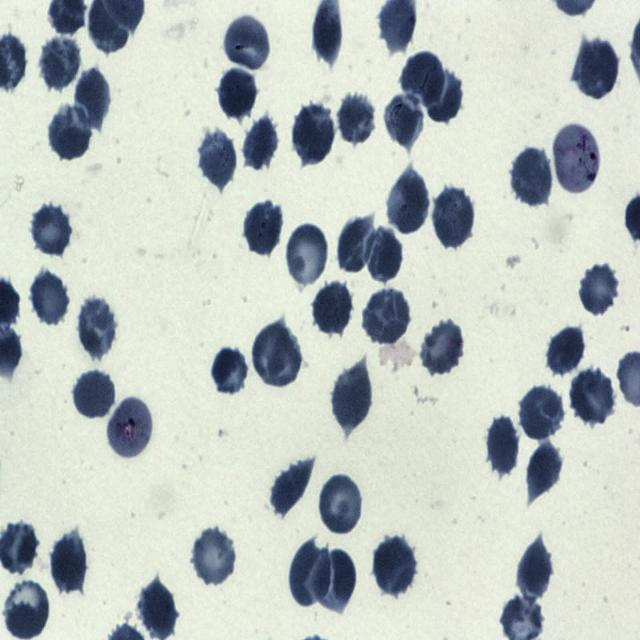red blood cell: (252, 323, 303, 389), (331, 360, 375, 433), (220, 13, 272, 72), (318, 472, 365, 536), (386, 168, 430, 236), (190, 525, 238, 586), (284, 221, 328, 287), (288, 542, 331, 608), (5, 577, 50, 640), (314, 549, 358, 612), (363, 290, 412, 346), (76, 295, 118, 360), (136, 578, 180, 640), (432, 185, 475, 248), (420, 66, 468, 121), (419, 318, 464, 376), (570, 368, 616, 424), (292, 104, 336, 162), (46, 112, 97, 162), (518, 386, 564, 441), (372, 537, 417, 593), (30, 200, 73, 258), (511, 147, 553, 206), (577, 39, 619, 98), (517, 534, 552, 603), (51, 530, 88, 595), (336, 214, 376, 274), (74, 68, 113, 129), (29, 270, 70, 328), (402, 51, 446, 105), (243, 200, 283, 258), (272, 462, 314, 517), (40, 36, 82, 90), (579, 262, 621, 316), (384, 95, 426, 147), (544, 322, 582, 379), (337, 92, 377, 146), (200, 130, 237, 188), (314, 280, 353, 334), (73, 370, 115, 419), (528, 441, 564, 498), (487, 415, 520, 477), (367, 226, 403, 282), (220, 66, 258, 119), (244, 116, 280, 170), (211, 346, 249, 397)
ring: (552, 122, 599, 195), (106, 395, 154, 460)
